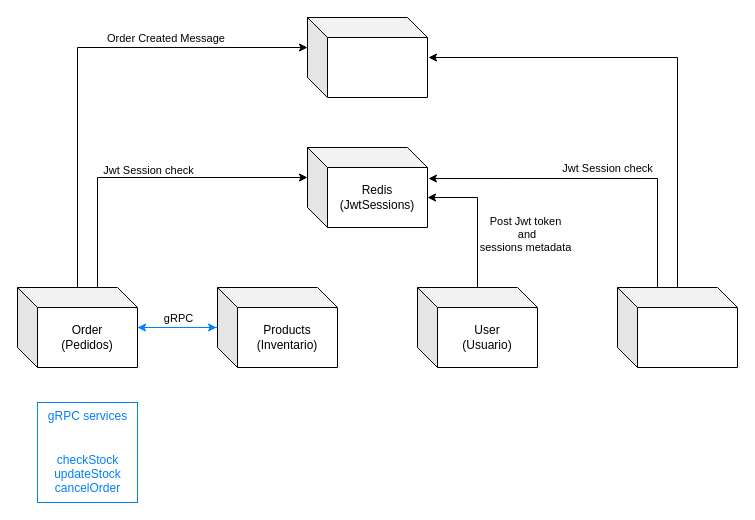
The diagram is 755 pixels wide and 520 high, and some of its shapes have lost their labels. Here are the shapes that lost their labels. From the top down, the centre of each, then its label:
point 367,57: Kafka Broker
point 677,327: Payment (Pagamentos)
